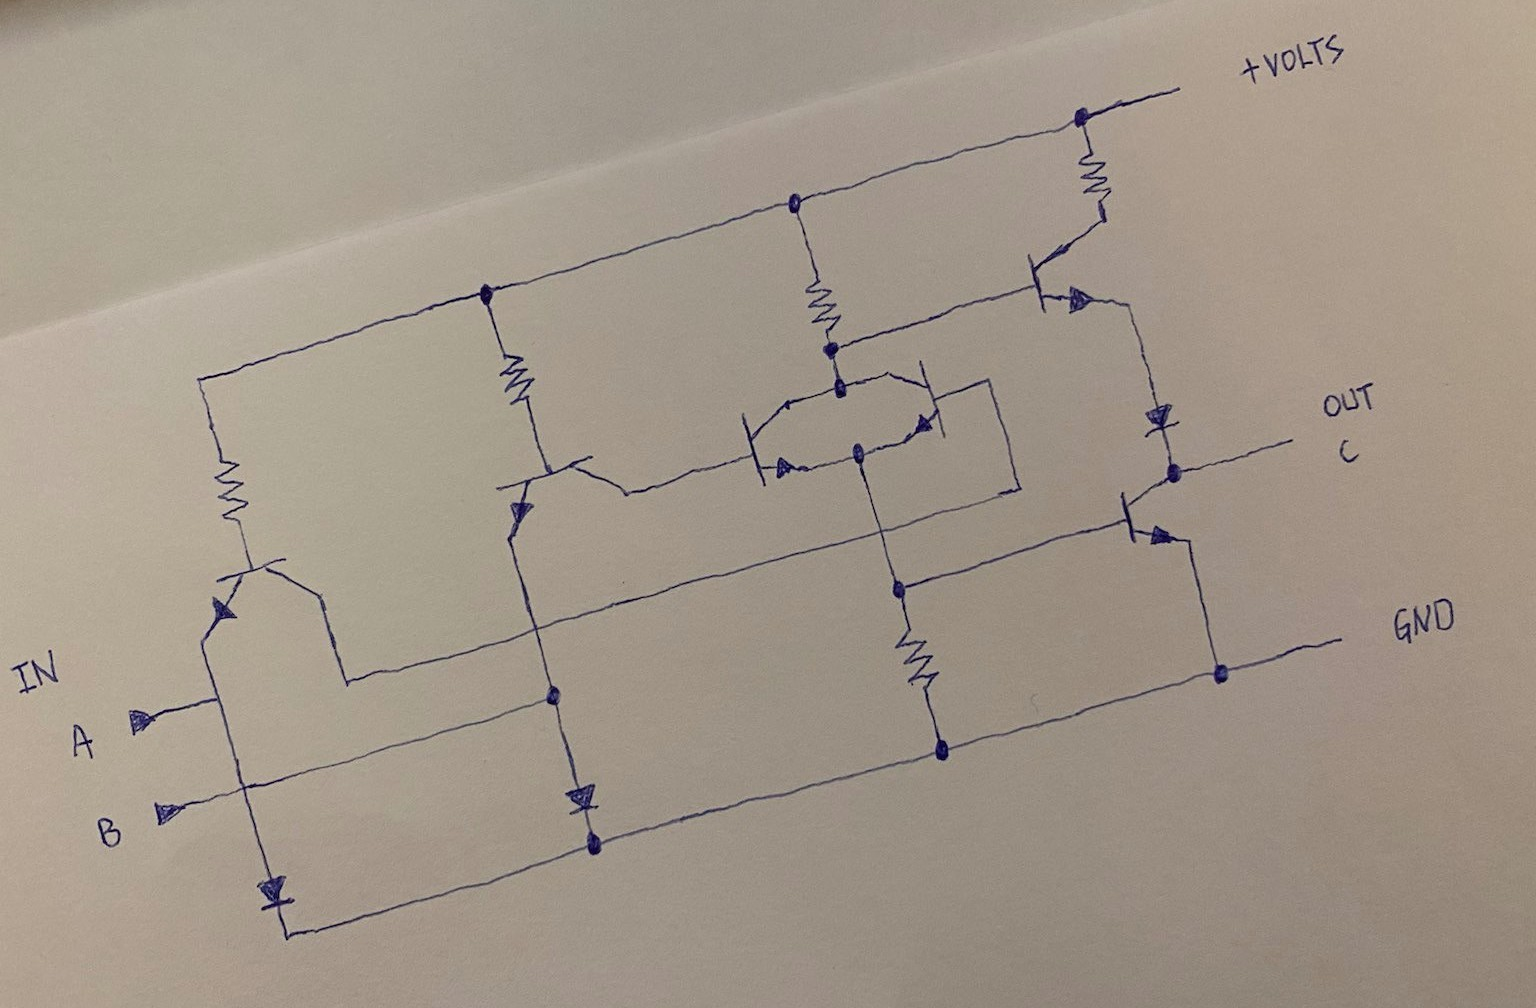diode: (555, 774, 609, 823), (247, 865, 301, 913), (1138, 394, 1187, 444)
junction: (769, 181, 820, 220), (528, 674, 571, 715), (466, 273, 509, 312), (1061, 97, 1103, 136), (878, 570, 921, 606), (860, 512, 903, 546), (571, 828, 612, 862), (329, 664, 371, 696), (924, 733, 961, 769), (999, 468, 1032, 506), (196, 681, 232, 715), (518, 613, 555, 647), (227, 769, 261, 805), (1203, 655, 1237, 690), (841, 434, 874, 470), (181, 359, 214, 391), (1157, 456, 1192, 486), (974, 366, 1003, 400), (828, 371, 858, 403), (817, 335, 849, 362), (272, 924, 302, 948)
resistor: (892, 625, 945, 696), (213, 451, 252, 526), (802, 268, 844, 333), (496, 345, 540, 408), (1077, 148, 1119, 206)
terminal: (119, 700, 174, 737), (1310, 619, 1358, 656), (150, 799, 204, 830), (1265, 423, 1305, 459), (1149, 74, 1191, 105)
text: (1261, 33, 1352, 76), (1388, 597, 1462, 645), (4, 645, 61, 699), (1318, 375, 1377, 420), (64, 718, 101, 762), (92, 813, 129, 853), (1332, 433, 1367, 469), (1234, 54, 1258, 87)
transistor: (475, 449, 633, 548), (186, 551, 342, 649), (1018, 238, 1120, 323), (734, 391, 813, 490), (880, 354, 956, 454), (1103, 486, 1181, 561)
